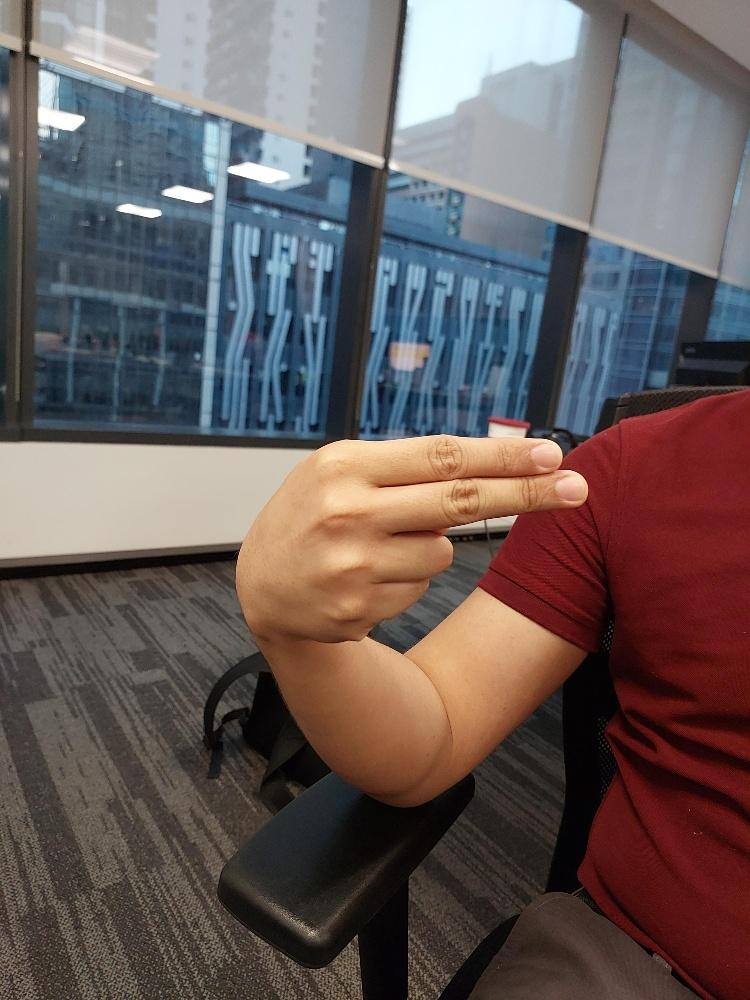h: (233, 431, 590, 645)
